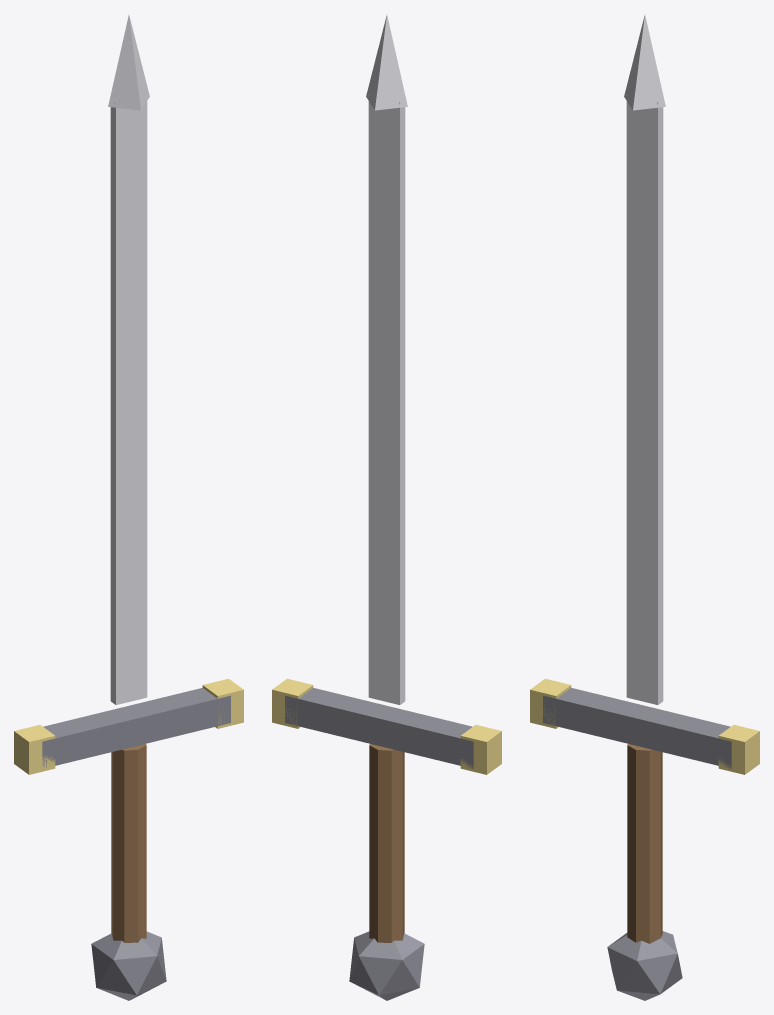
File: wpn_great_sword.glb
The picture shows the model from 3 angles, left to right: view 1: azimuth 30°, elevation 25°; view 2: azimuth 150°, elevation 25°; view 3: azimuth 330°, elevation 25°; orthographic projection.
Visible parts, largest first — view 1: Weapon_GreatSword; view 2: Weapon_GreatSword; view 3: Weapon_GreatSword.
Part boxes in pixels (box(x1,y1,x2,y2)): Weapon_GreatSword: box(14, 15, 243, 1000); Weapon_GreatSword: box(272, 15, 501, 1000); Weapon_GreatSword: box(530, 15, 759, 1000).
Size of the model in its own units: 0.41 by 1.8 by 0.1191.
